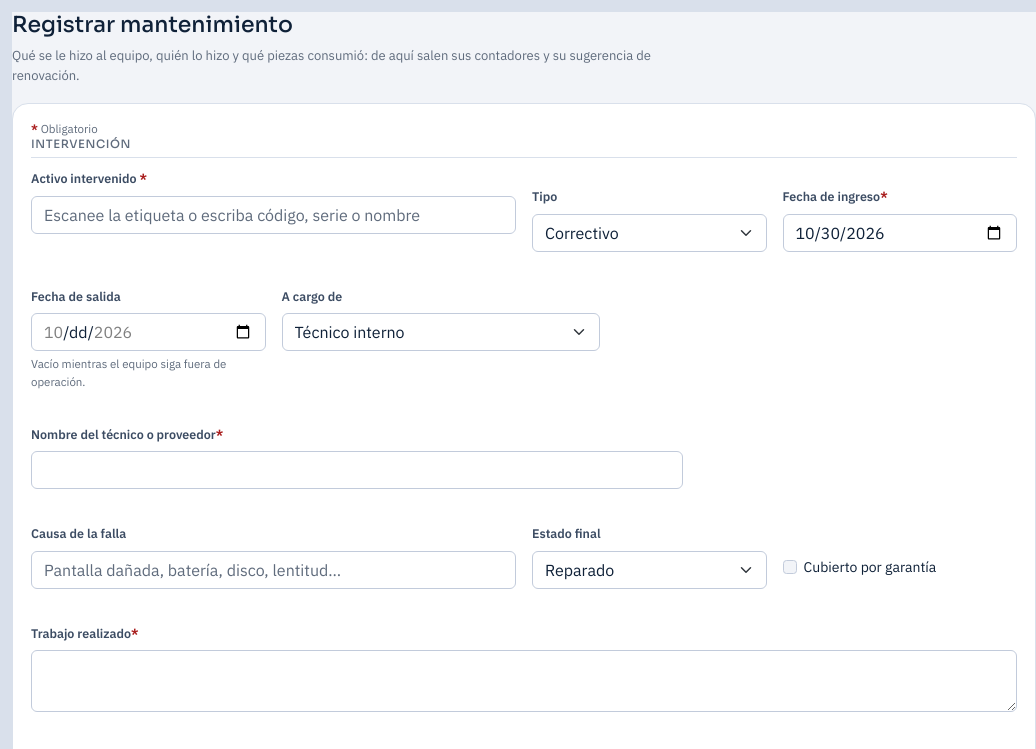
Test: La fecha de salida › con salida muestra el tiempo fuera de operación en meses
Check: the dropdown labelled "Activo intervenido *" is shown, box [31,196,516,234]
In the date field labelled "Fecha de ingreso *": (900, 233) [782,214,1017,252], type "2026-07-01"
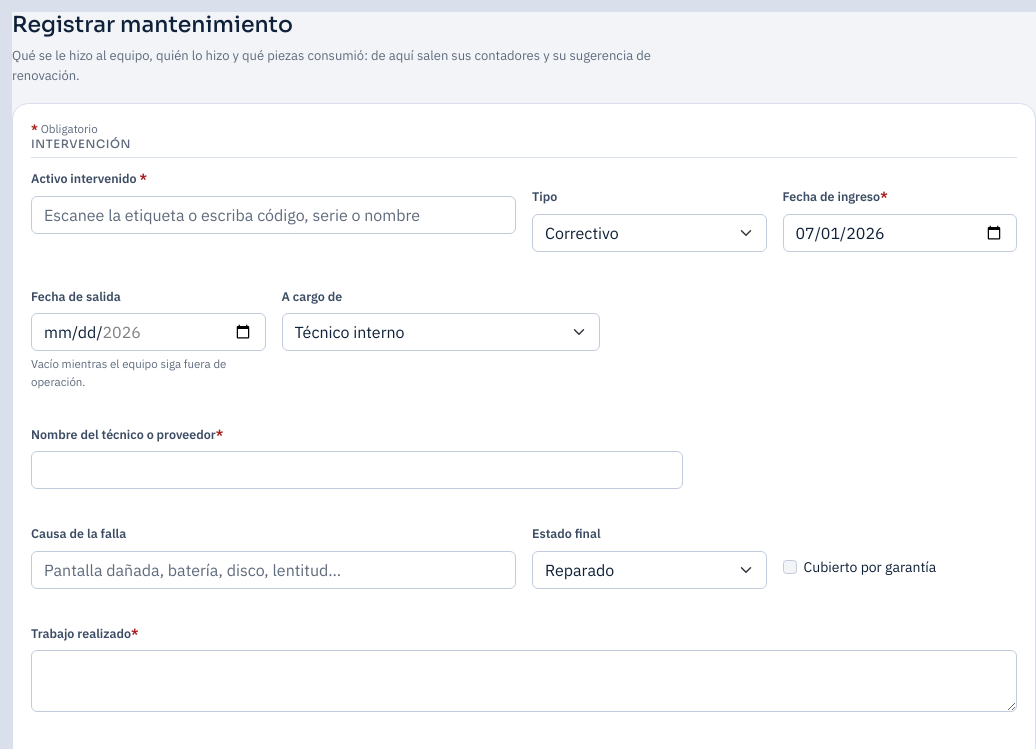
In the date field labelled "Fecha de salida": (148, 332) [31,313,266,351], type "2026-08-11"
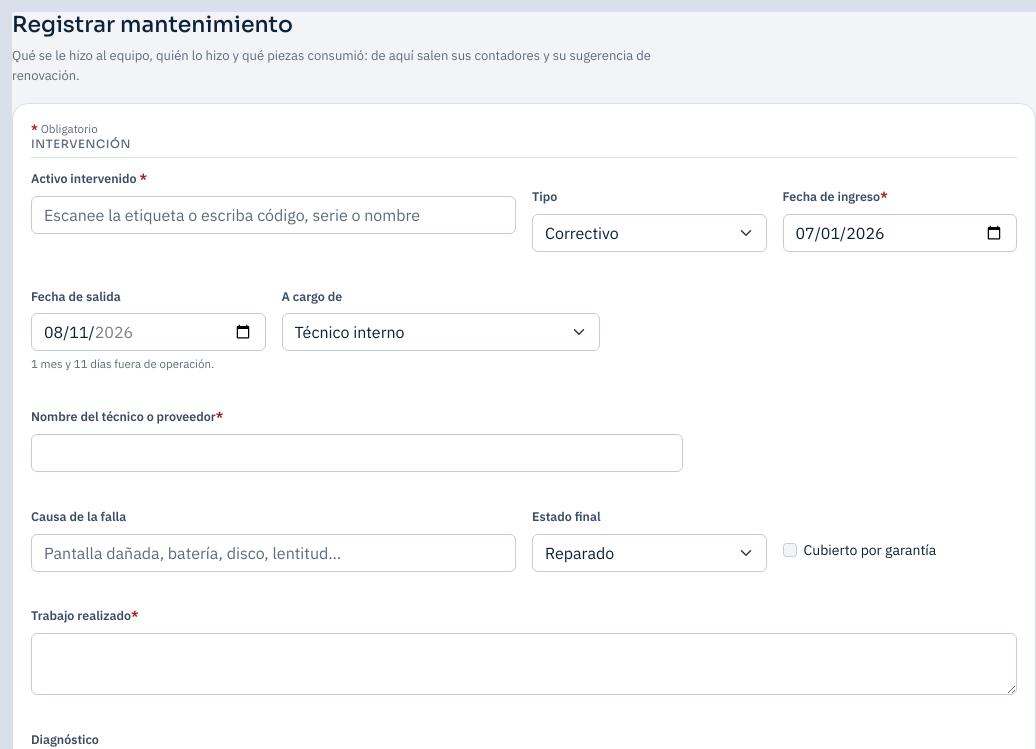
Check: the text "1 mes y 11 días fuera de operación." is shown, box [31,356,214,371]
